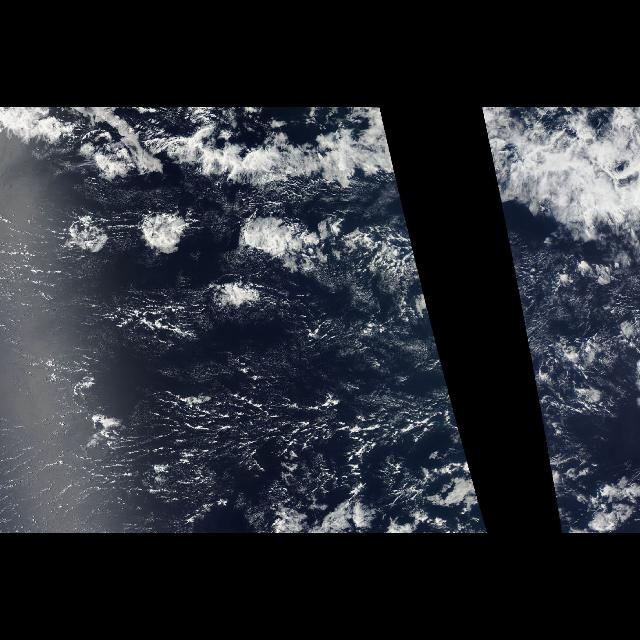Fish: (152, 127, 388, 183)
Flower: (64, 176, 344, 368)
Gravel: (129, 368, 485, 534)
Sugar: (7, 355, 323, 521)
